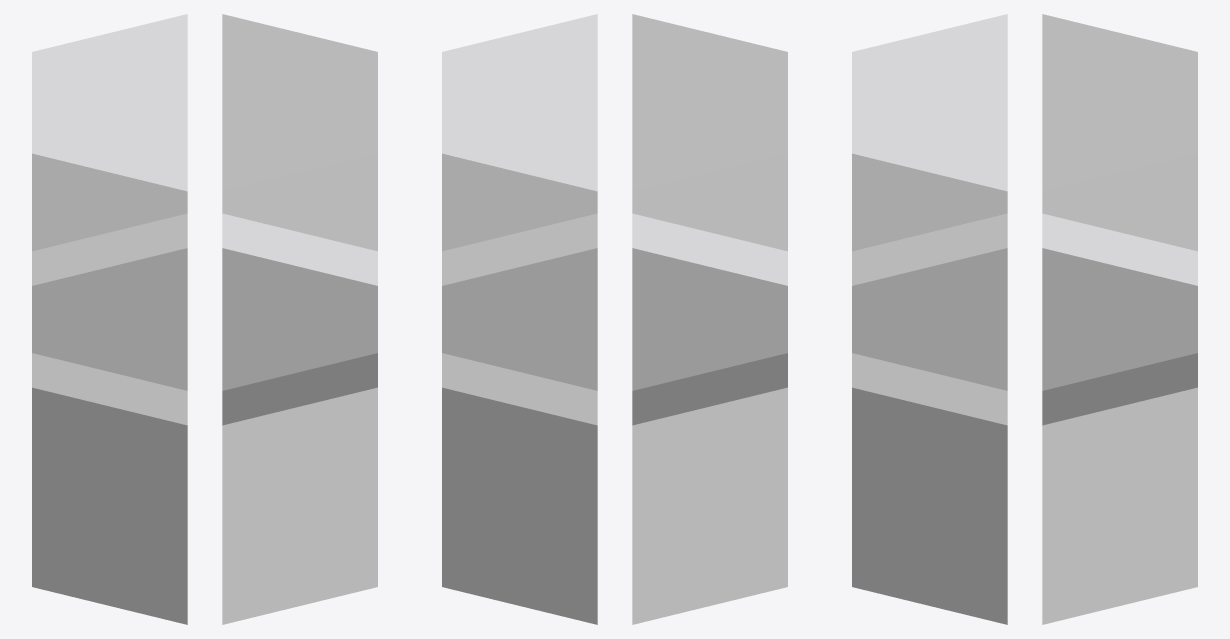
Rendered from prism3d.obj.
The picture shows the model from 3 angles, left to right: view 1: azimuth 30°, elevation 25°; view 2: azimuth 150°, elevation 25°; view 3: azimuth 270°, elevation 25°; orthographic projection.
Visible parts, largest first — view 1: prism_0.002, prism_0.003, prism_invert_0.003, prism_invert_0.002, prism_invert_0.005, prism_invert_0, prism_0, prism_0.005; view 2: prism_0, prism_0.001, prism_invert_0.001, prism_invert_0, prism_invert_0.003, prism_invert_0.004, prism_0.004, prism_0.003; view 3: prism_0.004, prism_0.005, prism_invert_0.005, prism_invert_0.004, prism_invert_0.001, prism_invert_0.002, prism_0.002, prism_0.001.
Part boxes in pixels (<box>): prism_0.002: <box>32,387,187,624</box>; prism_0.003: <box>222,387,377,624</box>; prism_invert_0.003: <box>222,153,377,390</box>; prism_invert_0.002: <box>32,153,187,390</box>; prism_invert_0.005: <box>222,14,377,250</box>; prism_invert_0: <box>32,14,187,250</box>; prism_0: <box>32,248,187,425</box>; prism_0.005: <box>222,248,377,425</box>; prism_0: <box>442,387,597,624</box>; prism_0.001: <box>632,387,787,624</box>; prism_invert_0.001: <box>632,153,787,390</box>; prism_invert_0: <box>442,153,597,390</box>; prism_invert_0.003: <box>632,14,787,250</box>; prism_invert_0.004: <box>442,14,597,250</box>; prism_0.004: <box>442,248,597,425</box>; prism_0.003: <box>632,248,787,425</box>; prism_0.004: <box>852,387,1007,624</box>; prism_0.005: <box>1042,387,1197,624</box>; prism_invert_0.005: <box>1042,153,1197,390</box>; prism_invert_0.004: <box>852,153,1007,390</box>; prism_invert_0.001: <box>1042,14,1197,250</box>; prism_invert_0.002: <box>852,14,1007,250</box>; prism_0.002: <box>852,248,1007,425</box>; prism_0.001: <box>1042,248,1197,425</box>.
Bounding box in the file's own units: 2.2 × 2.51 × 2.
Materials: 12 (12 with a texture image).
